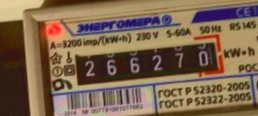0: (198, 47, 211, 65)
2: (83, 56, 98, 75), (152, 50, 164, 69)
6: (106, 55, 120, 74), (129, 54, 143, 73)
7: (175, 48, 187, 67)
screen: (65, 28, 232, 93)
